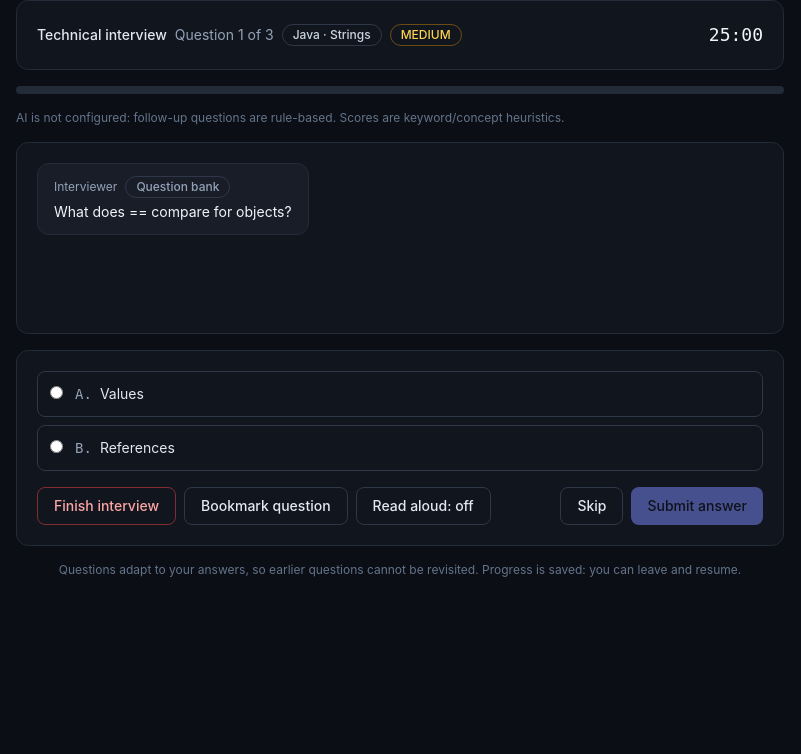
Test: Workspace (conversational interview room) › keeps the answer and offers a retry when submission fails
The width and height of the screenshot is (801, 754).
Click the radio button labelled "A.Values": coordinates (56, 392) [50,386,63,399]
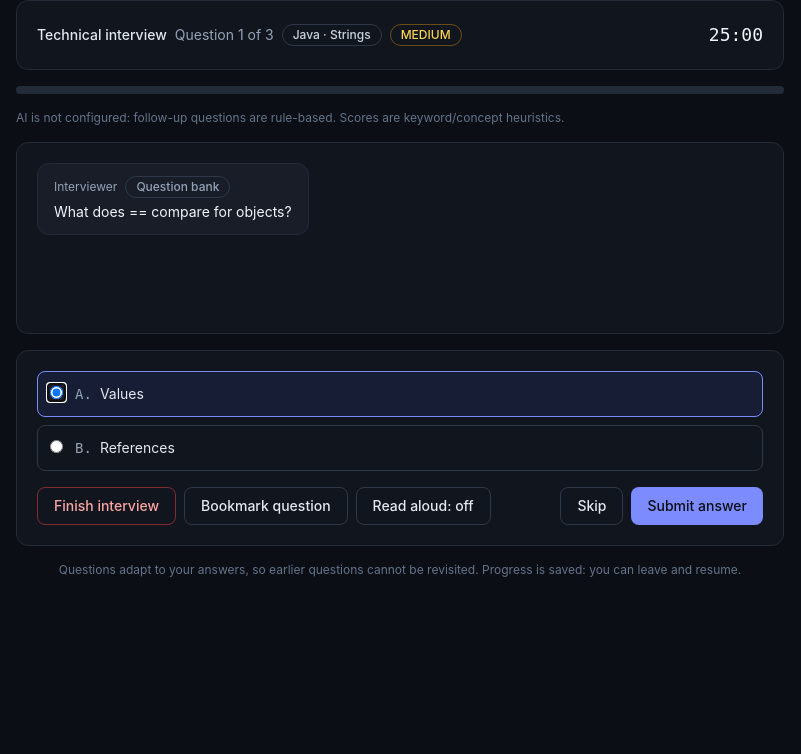
Click the button "Submit answer": coordinates (697, 506) [632,487,763,525]
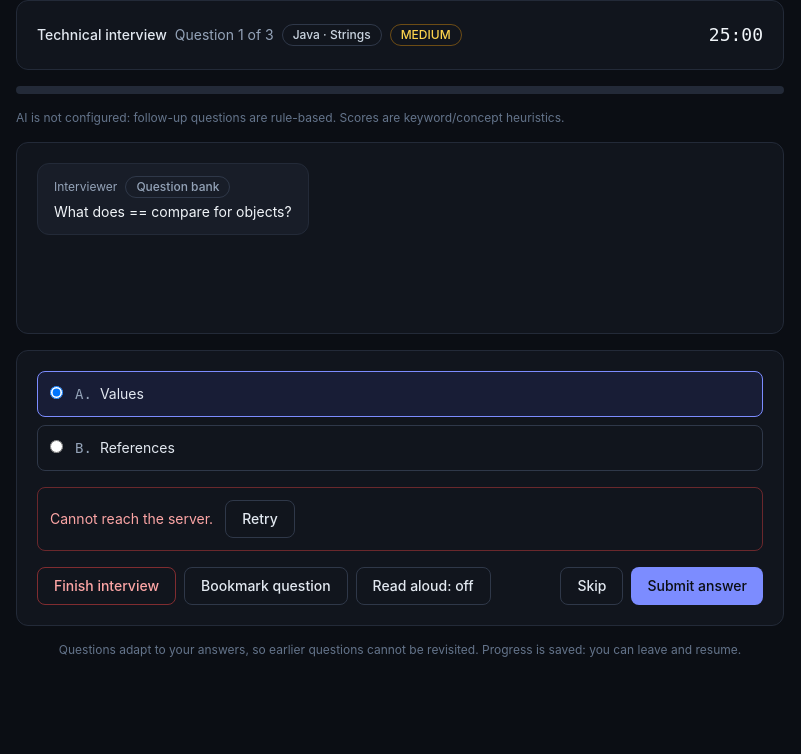
Check: the radio button labelled "A.Values" is checked, box [50,386,63,399]
Check: the message shows "Cannot reach the server.", box [50,510,213,527]
Click the button "Retry": coordinates (260, 519) [225,500,295,538]
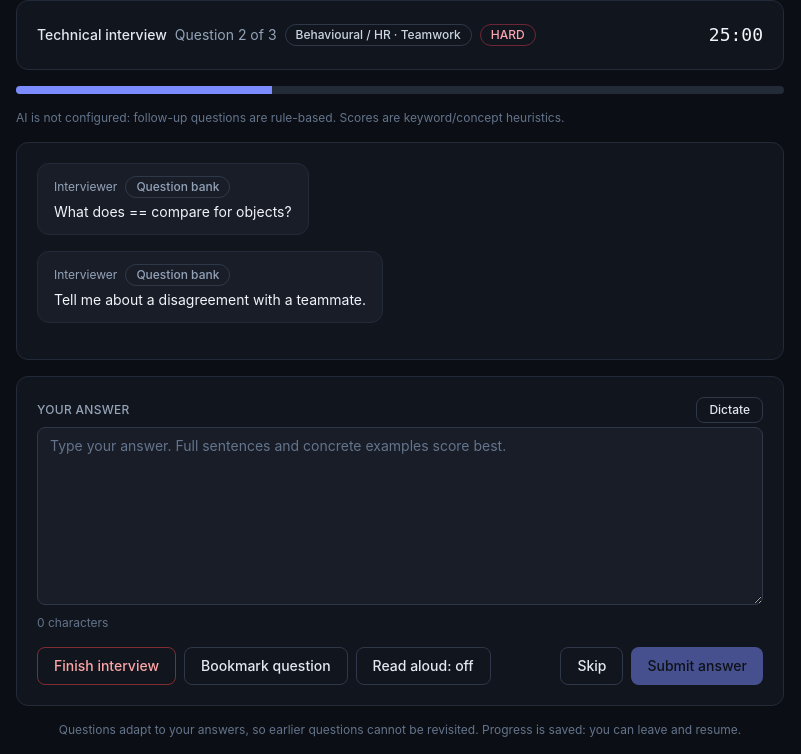
Check: the text "Tell me about a disagreement with a teammate." is shown, box [54,290,366,310]
